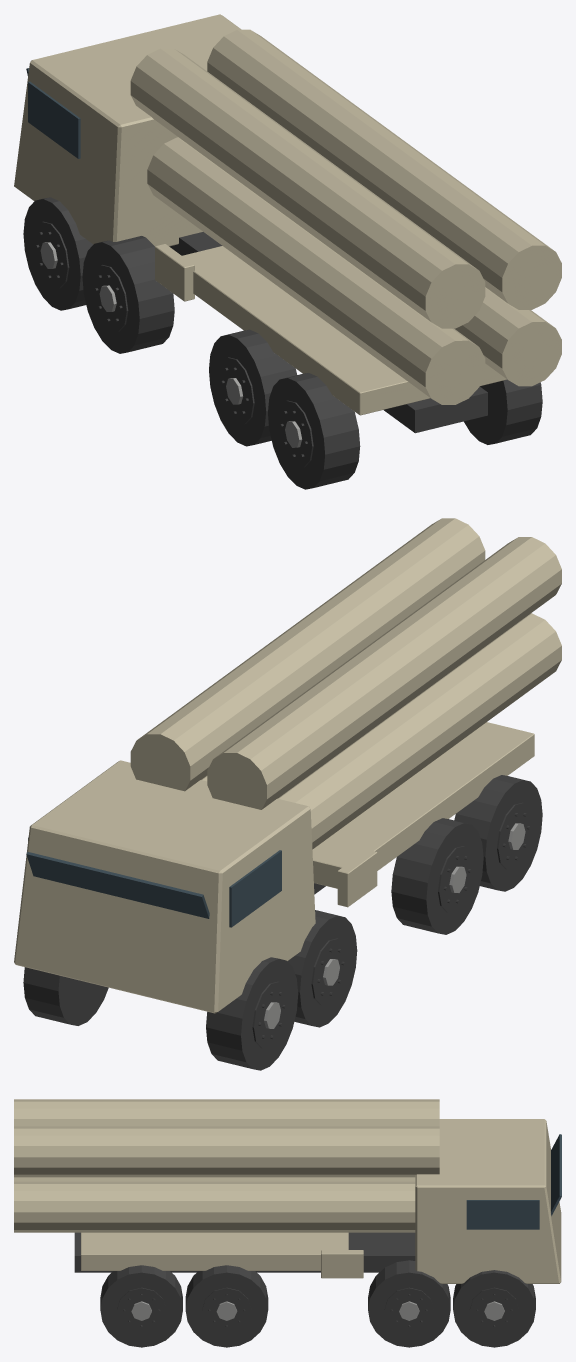
Rendered from rus_aa_s400.glb.
The picture shows the model from 3 angles, top to bottom: view 1: azimuth 30°, elevation 25°; view 2: azimuth 150°, elevation 25°; view 3: azimuth 270°, elevation 25°; orthographic projection. The views are drawn at different scales.
Parts seen in each view (by area): view 1: barrel, body, turret, wheel_2, wheel_6, wheel_4, wheel_0, wheel_7; view 2: barrel, body, turret, wheel_4, wheel_0, wheel_6, wheel_2, wheel_1; view 3: barrel, body, turret, wheel_5, wheel_7, wheel_3, wheel_1.
Part boxes in pixels (x1,y1,x2,y2): barrel: (130, 29, 561, 404); body: (14, 14, 487, 433); turret: (182, 246, 506, 415); wheel_2: (82, 236, 174, 353); wheel_6: (268, 373, 360, 489); wheel_4: (209, 329, 296, 446); wheel_0: (23, 197, 93, 310); wheel_7: (464, 379, 542, 444); barrel: (130, 518, 561, 849); body: (14, 760, 377, 1013); turret: (312, 722, 534, 888); wheel_4: (391, 818, 483, 934); wheel_0: (206, 957, 298, 1070); wheel_6: (454, 775, 542, 891); wheel_2: (287, 910, 357, 1027); wheel_1: (23, 967, 108, 1025); barrel: (14, 1099, 439, 1232); body: (74, 1119, 561, 1283); turret: (81, 1232, 348, 1270); wheel_5: (185, 1265, 268, 1347); wheel_7: (100, 1265, 182, 1347); wheel_3: (368, 1260, 450, 1347); wheel_1: (453, 1270, 535, 1347).
Bounding box in the file's own units: 3.1 × 3.52 × 9.01.
